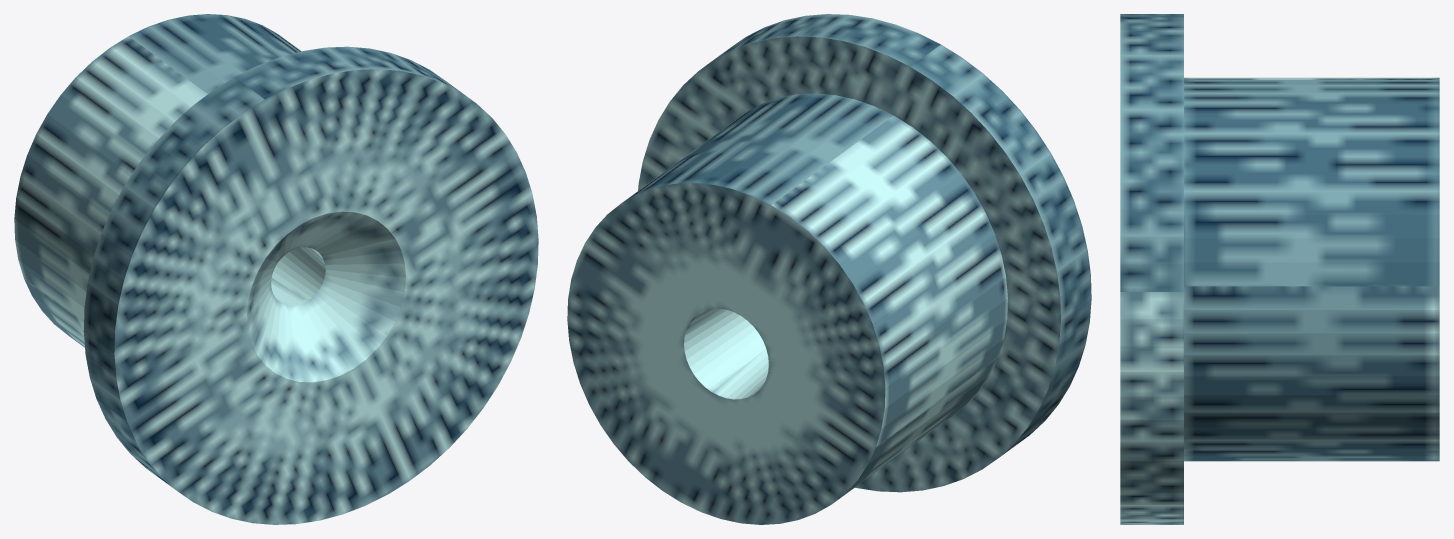
The model's file is Mold4-Nozzle-M.glb.
3 views of the same model, side by side, from view 1: azimuth 30°, elevation 25°; view 2: azimuth 150°, elevation 25°; view 3: azimuth 270°, elevation 25° (orthographic). The views are drawn at different scales.
Visible parts, largest first — view 1: GERGTGQ - ens-1 FBUSETTE-1; view 2: GERGTGQ - ens-1 FBUSETTE-1; view 3: GERGTGQ - ens-1 FBUSETTE-1.
Part boxes in pixels (x1,y1,x2,y2): GERGTGQ - ens-1 FBUSETTE-1: (14, 14, 538, 524); GERGTGQ - ens-1 FBUSETTE-1: (567, 14, 1091, 524); GERGTGQ - ens-1 FBUSETTE-1: (1120, 14, 1439, 524).
Size of the model in its own units: 1.42 by 1.42 by 0.8902.
Materials: 1 (1 with a texture image).
